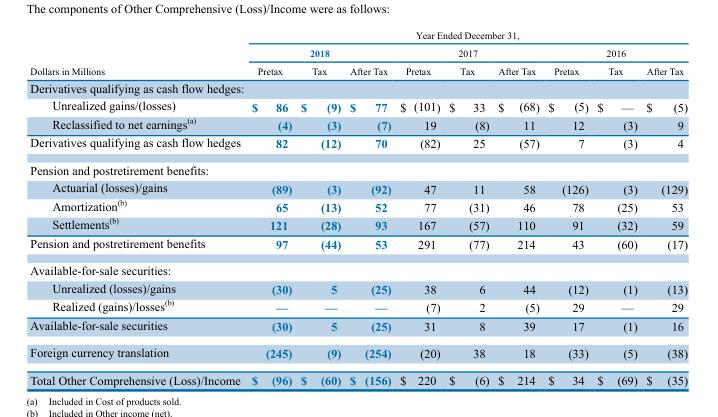table: (29, 28, 687, 386)
table column: (29, 28, 245, 386), (492, 28, 543, 386), (245, 28, 295, 386), (344, 28, 394, 386), (295, 28, 344, 386), (394, 28, 443, 386), (443, 28, 492, 386), (543, 28, 592, 386), (592, 28, 641, 386), (641, 28, 687, 386)
table column header: (29, 28, 687, 78)
table projected row header: (29, 156, 687, 178), (29, 256, 687, 278), (29, 78, 687, 96)
table row: (29, 338, 687, 366), (29, 133, 687, 156), (29, 233, 687, 256), (29, 315, 687, 338), (29, 156, 687, 178), (29, 256, 687, 278), (29, 366, 687, 386), (29, 114, 687, 133), (29, 214, 687, 233), (29, 296, 687, 315), (29, 43, 687, 61), (29, 78, 687, 96), (29, 96, 687, 114), (29, 178, 687, 196), (29, 196, 687, 214), (29, 278, 687, 296), (29, 61, 687, 78), (29, 28, 687, 43)
table spanning cell: (29, 28, 245, 78), (344, 28, 592, 43), (245, 43, 394, 61), (394, 43, 543, 61), (543, 43, 687, 61)
